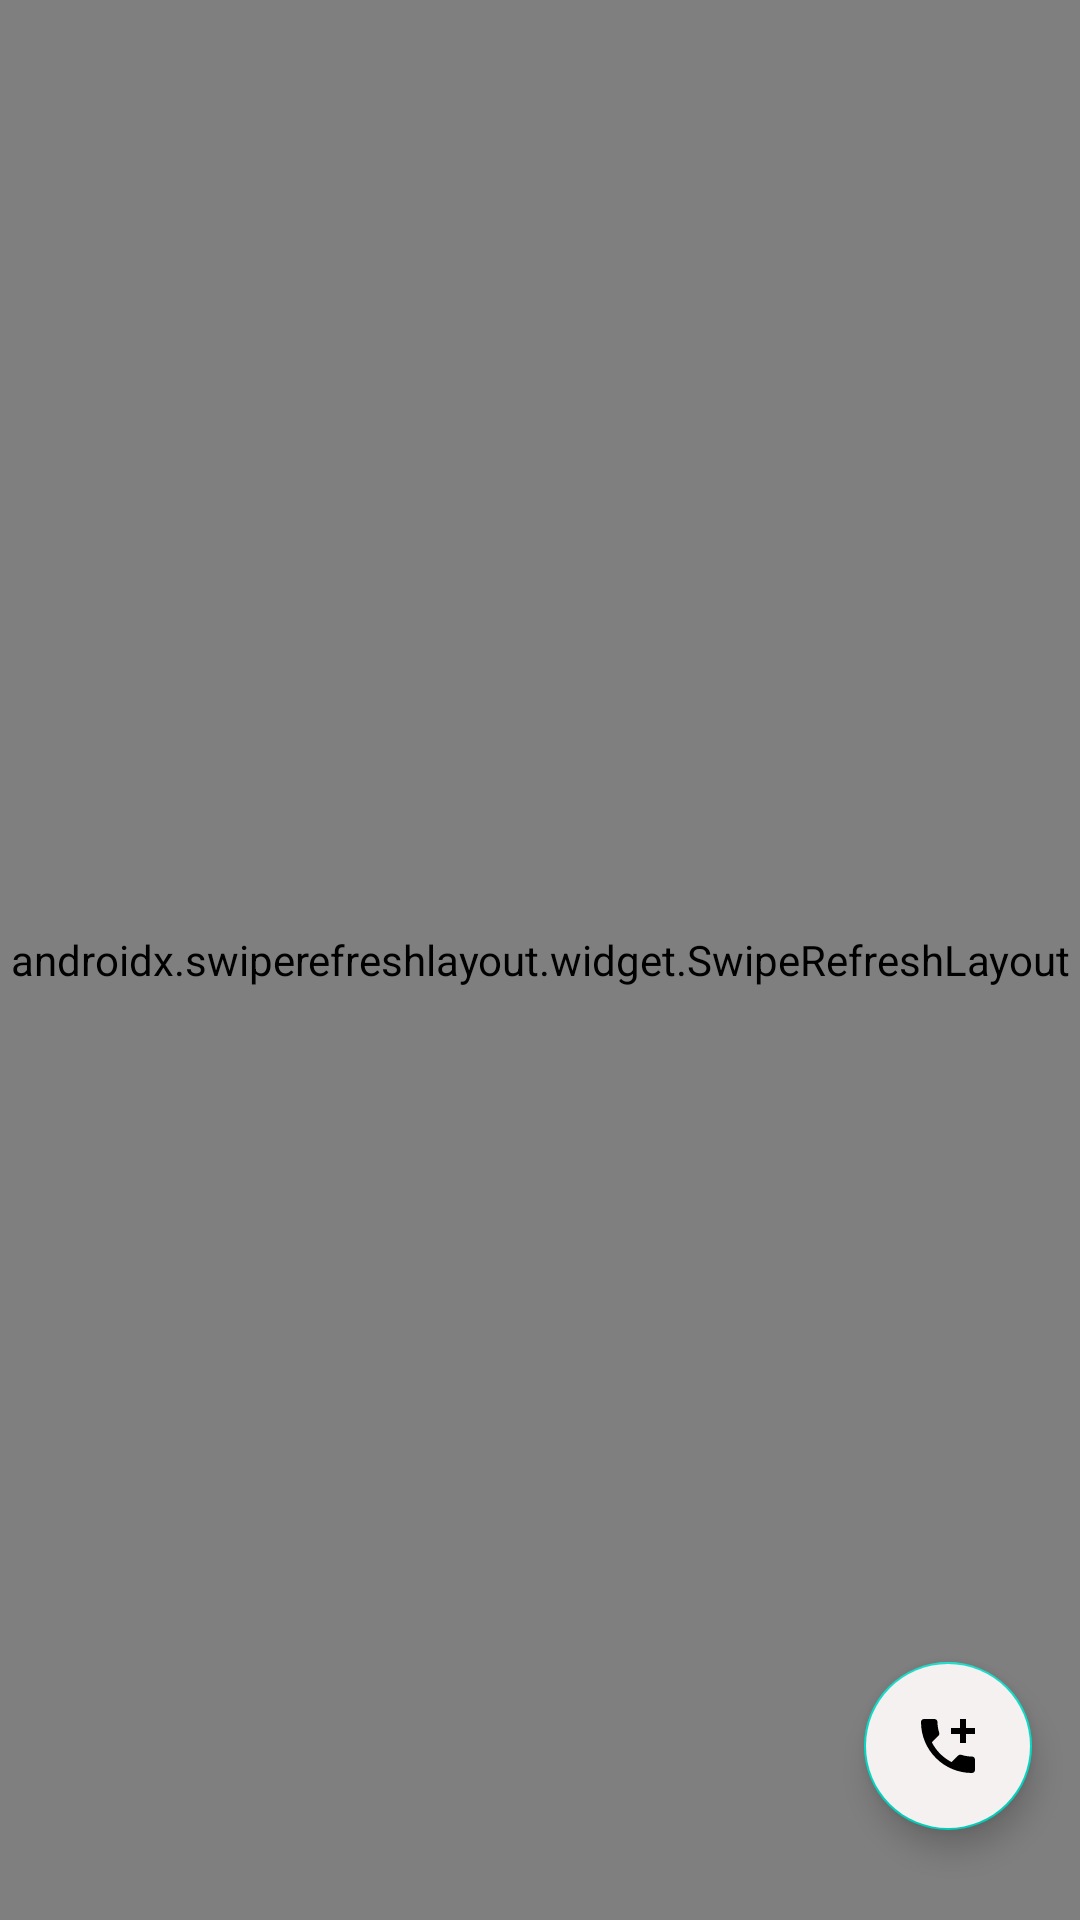

Where icons sit on this 1080x1920 app screen, as (x1, y1, x2, y2):
call: (864, 1662, 1032, 1830)
